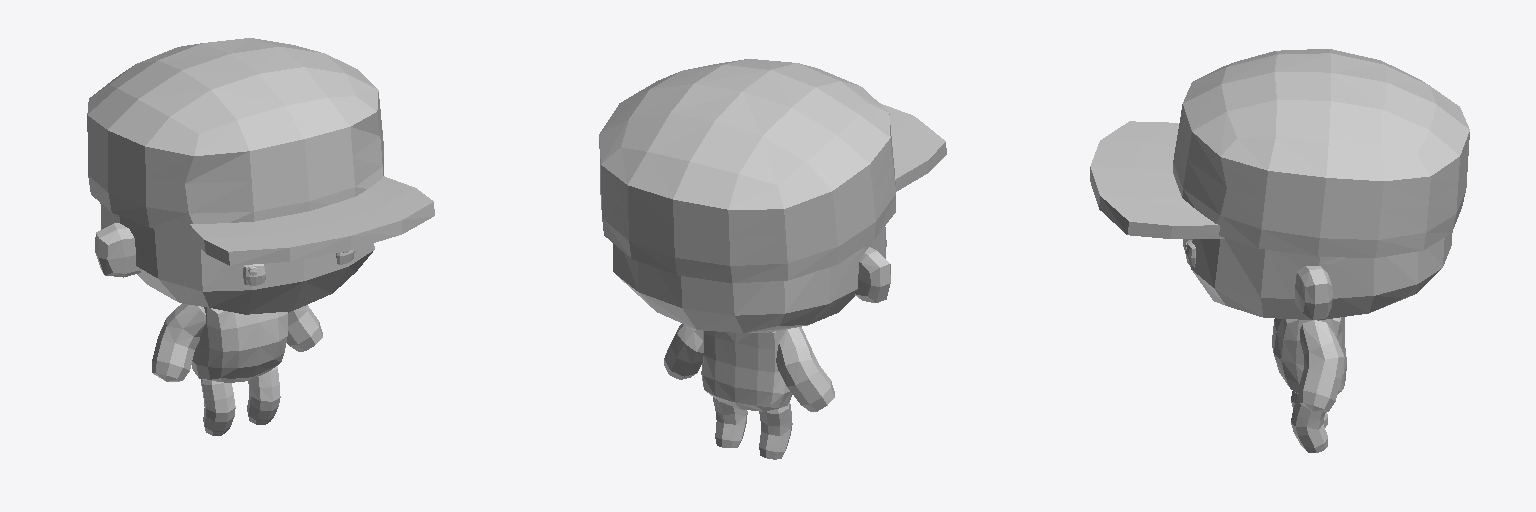
Rendered from idle_0042.obj.
3 views of the same model, side by side, from view 1: azimuth 30°, elevation 25°; view 2: azimuth 150°, elevation 25°; view 3: azimuth 270°, elevation 25° (orthographic).
Parts seen in each view (by area): view 1: Object_41, Object_42, Object_36, Object_44, Object_38; view 2: Object_41, Object_36, Object_44, Object_42; view 3: Object_41, Object_36, Object_42, Object_44.
Boxes of the visible parts, box(x1,y1,x2,y2) form: Object_41: box(87, 38, 383, 234); Object_42: box(185, 112, 434, 265); Object_36: box(95, 203, 374, 314); Object_44: box(152, 304, 322, 435); Object_38: box(243, 249, 354, 285); Object_41: box(599, 59, 895, 282); Object_36: box(613, 227, 890, 332); Object_44: box(664, 324, 834, 459); Object_42: box(880, 103, 946, 191); Object_41: box(1183, 49, 1469, 257); Object_36: box(1183, 232, 1452, 320); Object_42: box(1090, 104, 1226, 238); Object_44: box(1272, 317, 1346, 452).
Bounding box in the file's own units: 0.9691 × 1.21 × 1.14.